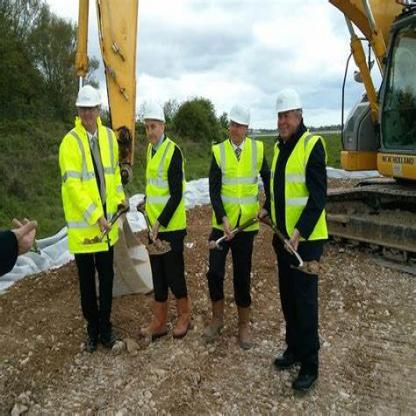person: (268, 84, 336, 392), (50, 82, 122, 349), (129, 89, 197, 370), (204, 96, 264, 362)
